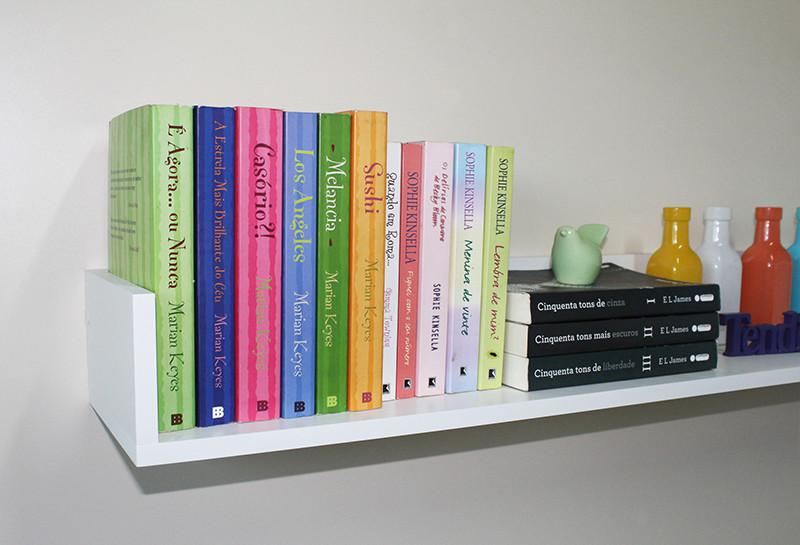book: (241, 123, 277, 417), (164, 110, 198, 400), (204, 118, 230, 398), (290, 123, 312, 415), (357, 118, 377, 411), (325, 119, 341, 413), (429, 147, 444, 394), (536, 294, 714, 310), (535, 331, 709, 345), (535, 363, 713, 372)
